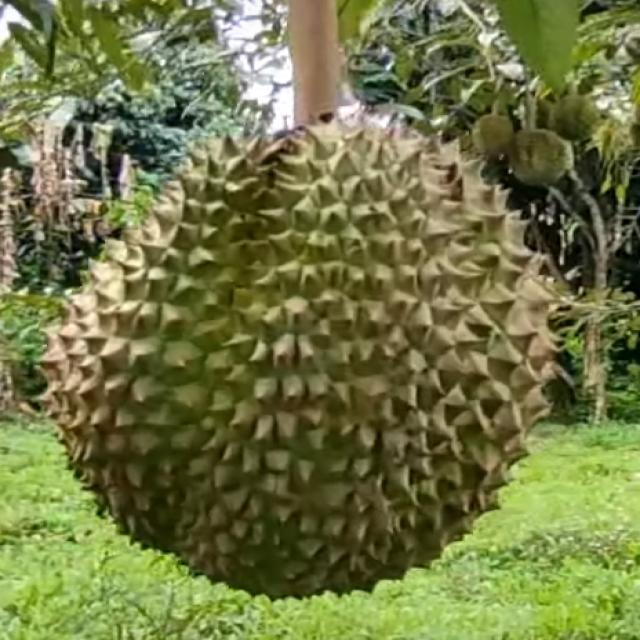immature: (44, 110, 569, 606)
